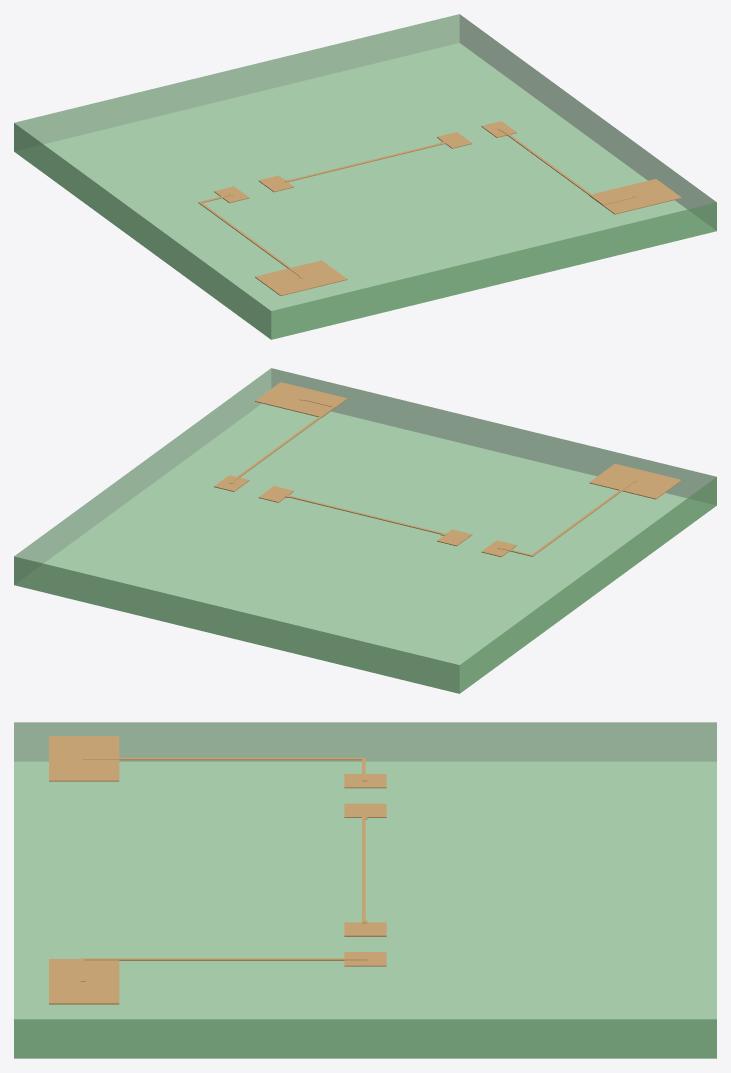
The model's file is board.glb.
3 renders of one model, top to bottom at view 1: azimuth 30°, elevation 25°; view 2: azimuth 150°, elevation 25°; view 3: azimuth 270°, elevation 25°, orthographic. The views are drawn at different scales.
Visible parts, largest first — view 1: Substrate_Layer_0_Z0, Unified_Net_1_Island_3, Unified_Net_3_Island_1; view 2: Substrate_Layer_0_Z0, Unified_Net_1_Island_3, Unified_Net_3_Island_1; view 3: Substrate_Layer_0_Z0, Unified_Net_1_Island_3, Unified_Net_3_Island_1, Unified_Net_1_Island_5, Unified_Net_3_Island_6, Unified_Net_2_Island_9, Unified_Net_2_Island_8, Unified_Net_1_Island_4, Unified_Net_3_Island_2.
Boxes of the visible parts, x1,y1,x2,y2 form: Substrate_Layer_0_Z0: (14,14,716,339); Unified_Net_1_Island_3: (255,260,347,295); Unified_Net_3_Island_1: (589,179,681,214); Substrate_Layer_0_Z0: (14,368,716,693); Unified_Net_1_Island_3: (589,463,681,499); Unified_Net_3_Island_1: (255,382,347,417); Substrate_Layer_0_Z0: (14,722,716,1058); Unified_Net_1_Island_3: (49,736,119,781); Unified_Net_3_Island_1: (49,959,119,1004); Unified_Net_1_Island_5: (82,757,367,781); Unified_Net_3_Island_6: (80,957,367,981); Unified_Net_2_Island_9: (344,922,386,936); Unified_Net_2_Island_8: (344,803,386,817); Unified_Net_1_Island_4: (344,774,386,788); Unified_Net_3_Island_2: (344,952,386,966).
Size of the model in its own units: 0.02 by 0.00129 by 0.02.
